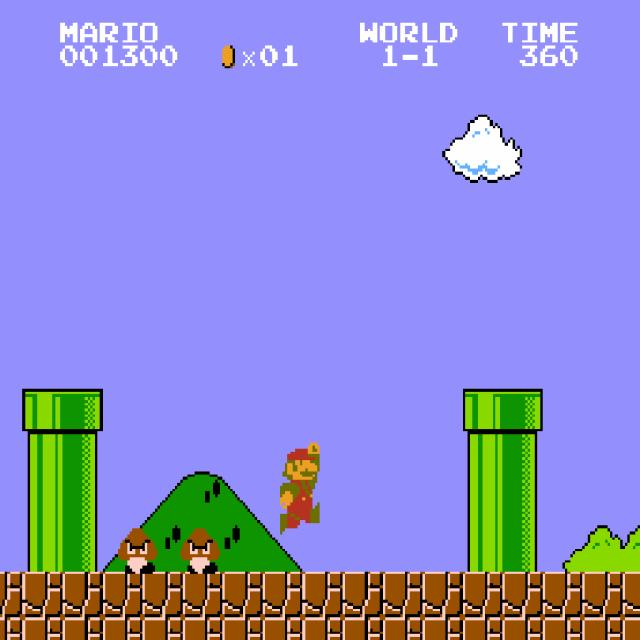big_mario: (277, 440, 320, 534)
goomba: (177, 526, 220, 574), (115, 526, 157, 574)
pipe: (22, 434, 63, 480), (22, 480, 63, 526), (62, 434, 103, 480), (62, 480, 103, 526), (462, 434, 503, 480), (462, 480, 503, 526), (502, 434, 543, 480), (502, 480, 543, 526), (22, 526, 63, 571), (62, 526, 103, 571), (462, 526, 503, 571), (502, 526, 543, 571)
pipe_head: (22, 389, 63, 434), (62, 389, 103, 434), (462, 389, 503, 434), (502, 389, 543, 434)
undestructible_block: (22, 572, 63, 617), (62, 572, 103, 617), (102, 572, 143, 617), (142, 572, 183, 617), (182, 572, 223, 617), (222, 572, 263, 617), (262, 572, 303, 617), (302, 572, 343, 617), (342, 572, 383, 617), (382, 572, 423, 617), (422, 572, 463, 617), (462, 572, 503, 617), (502, 572, 543, 617), (542, 572, 583, 617), (582, 572, 623, 617), (0, 572, 22, 617), (22, 617, 63, 640), (62, 617, 103, 640), (102, 617, 143, 640), (142, 617, 183, 640), (182, 617, 223, 640), (222, 617, 263, 640), (262, 617, 303, 640), (302, 617, 343, 640), (342, 617, 383, 640), (382, 617, 423, 640), (422, 617, 463, 640), (462, 617, 503, 640), (502, 617, 543, 640), (542, 617, 583, 640), (582, 617, 623, 640), (622, 571, 640, 617), (0, 617, 22, 640), (622, 617, 640, 639)
